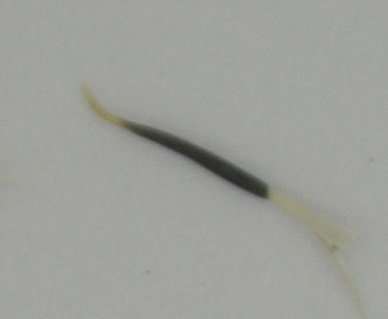เมล็ดดีเรียวยาว: (82, 83, 368, 282)
